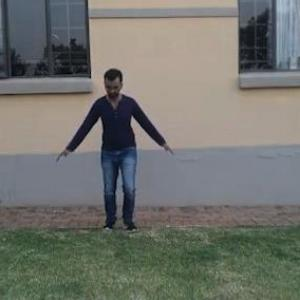land: (50, 66, 178, 236)
